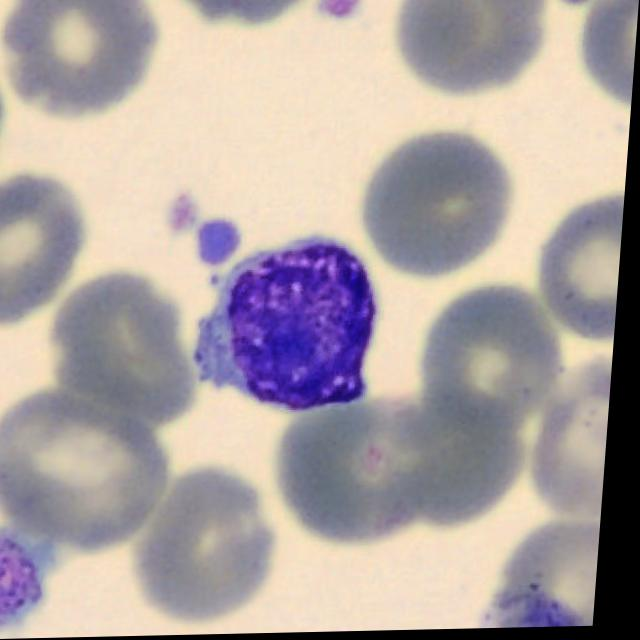Linfocito: (200, 237, 382, 411)
